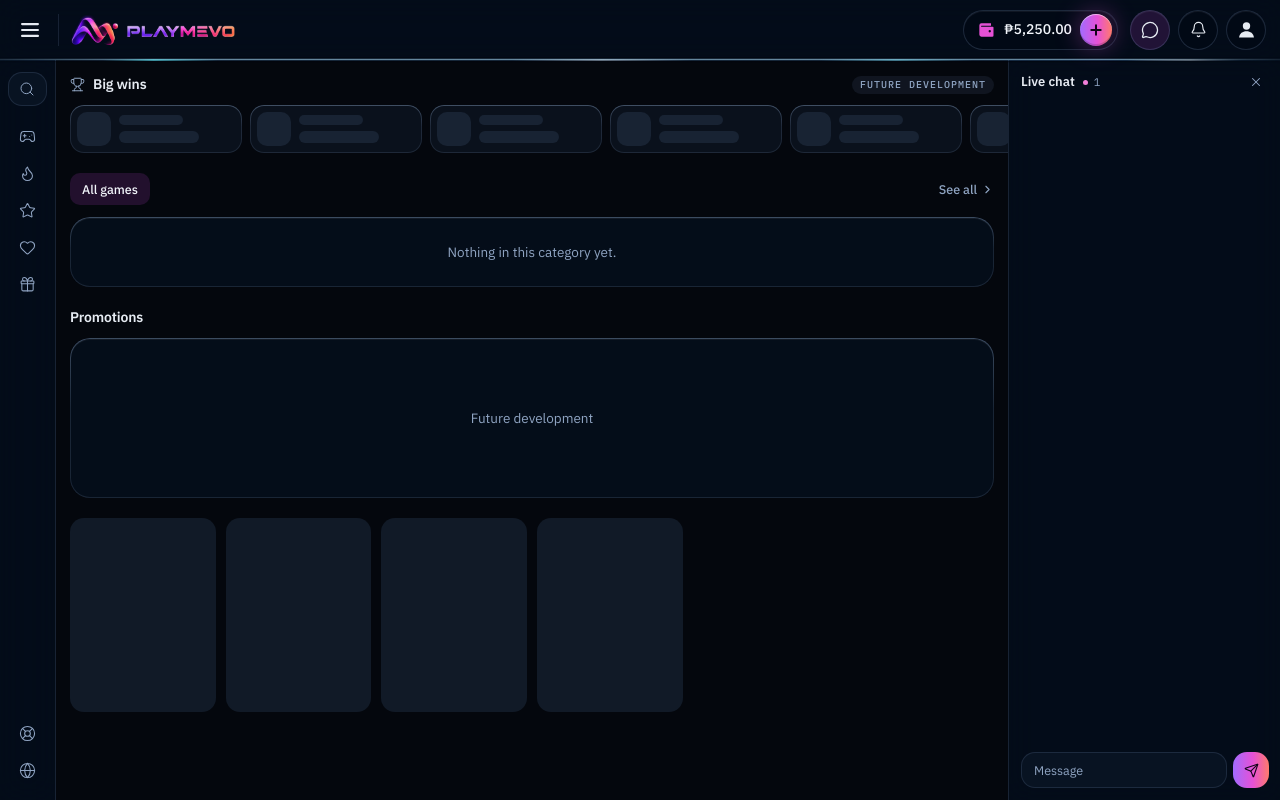
Test case: the live chat rail against the server › sends a message with the session and keeps the draft when the server refuses it
Type "hello there" into the field labelled "Message" at (1124, 770), box left=1021, top=752, right=1227, bottom=788
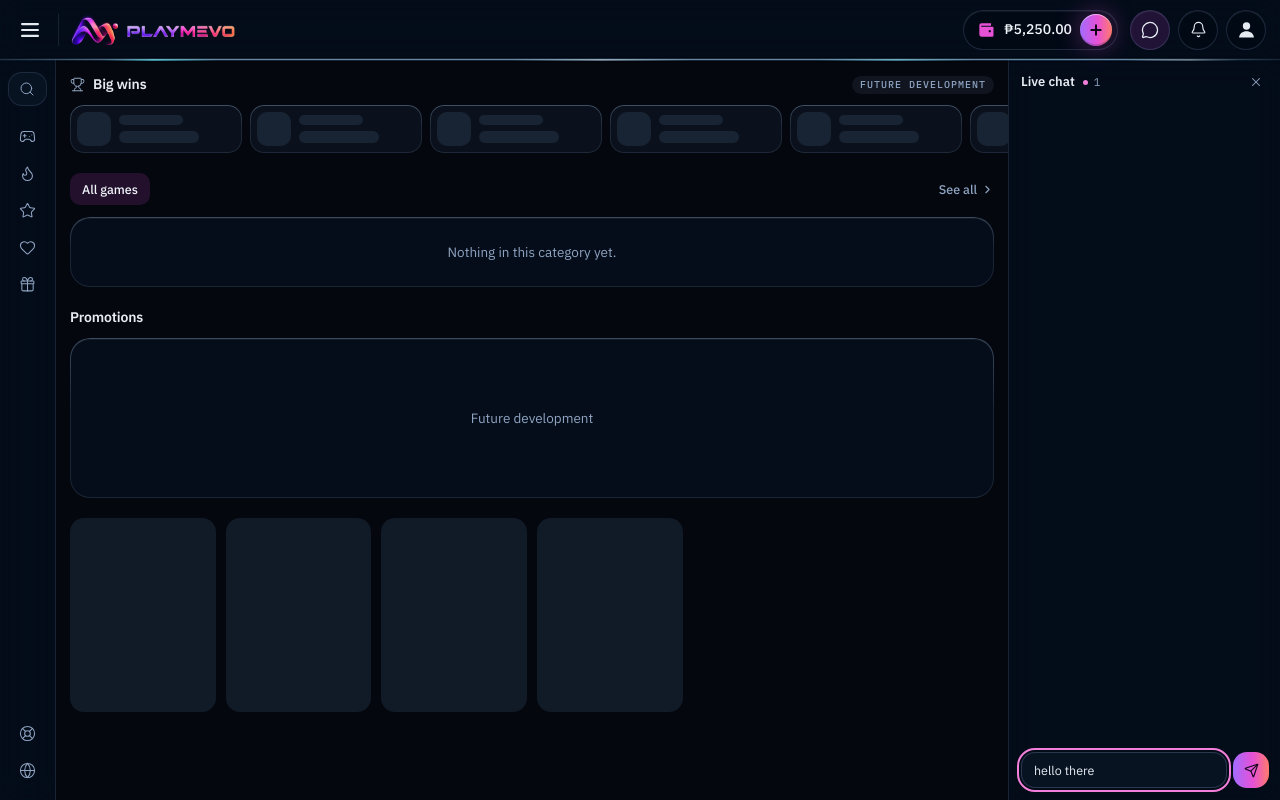
Click the button named "Send" at (1251, 770), box left=1233, top=752, right=1269, bottom=788
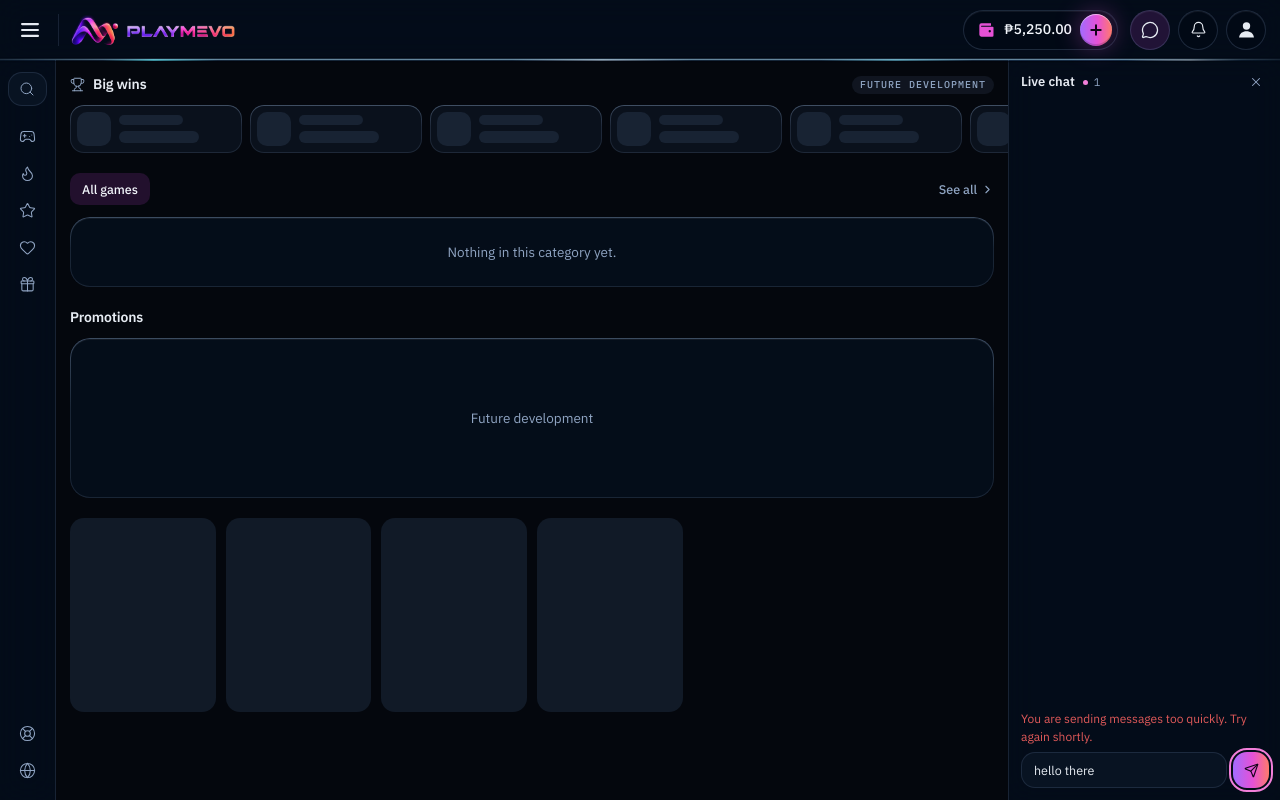
Check: the message "You are sending messages too quickly. Try again shortly." is shown, box left=1021, top=710, right=1269, bottom=746
Click the button named "Send" at (1251, 770), box left=1233, top=752, right=1269, bottom=788
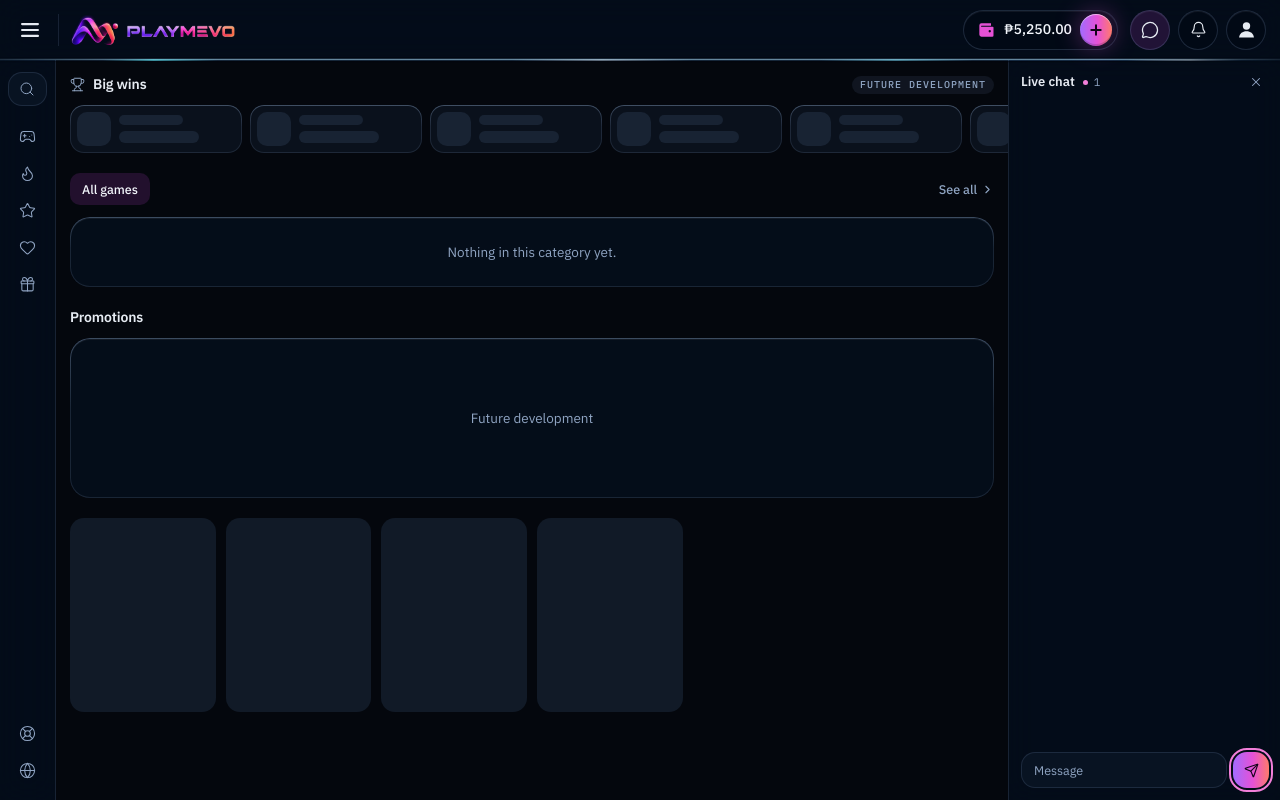
Check: the field labelled "Message" is empty, box left=1021, top=752, right=1227, bottom=788
Check: the message "You are sending messages too quickly. Try again shortly." is gone
